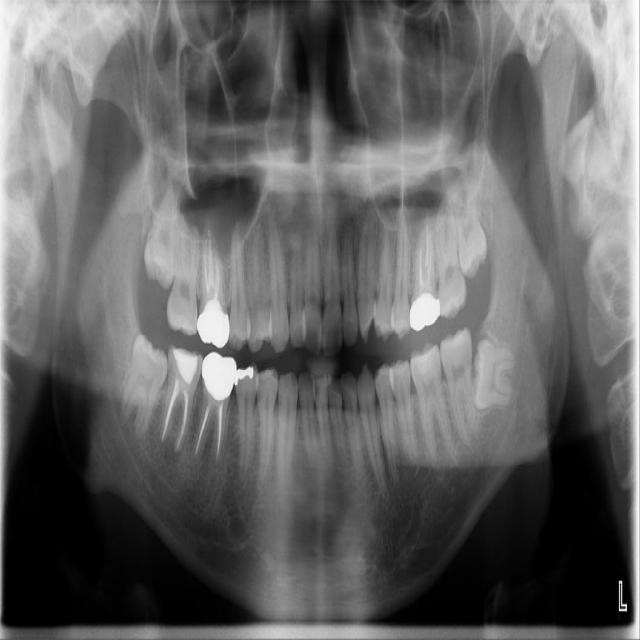3M ESPE Implant: (143, 184, 177, 292)
52: (161, 343, 207, 395), (200, 352, 238, 404), (195, 299, 233, 348), (231, 361, 261, 408), (409, 289, 441, 331)
73: (189, 390, 232, 469), (155, 382, 199, 455), (403, 213, 439, 296), (201, 223, 230, 308), (600, 584, 609, 600)
BioHorizons Implant: (433, 200, 469, 321)
BioLife Implant: (449, 173, 491, 279)
Biomet 3i Implant: (468, 337, 519, 415)
Blue Sky Bio Implant: (438, 326, 480, 446)
Caries: (165, 212, 201, 337)
Implant: (148, 342, 207, 455)
Keystone Dental Implant: (114, 331, 175, 445)
